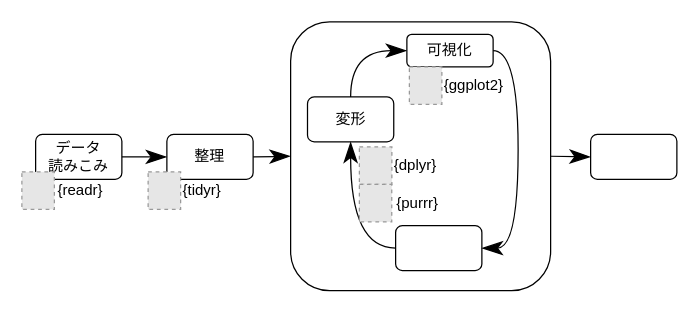
The diagram is 699 pixels wide and 313 high, and some of its shapes have lost their labels. Grey dashed boxes stand in for pictures. The box of each missing label's shape, as (x1, y1, x2, y2) in pixels:
モデリング: (394, 224, 482, 271)
会話: (589, 133, 677, 179)
